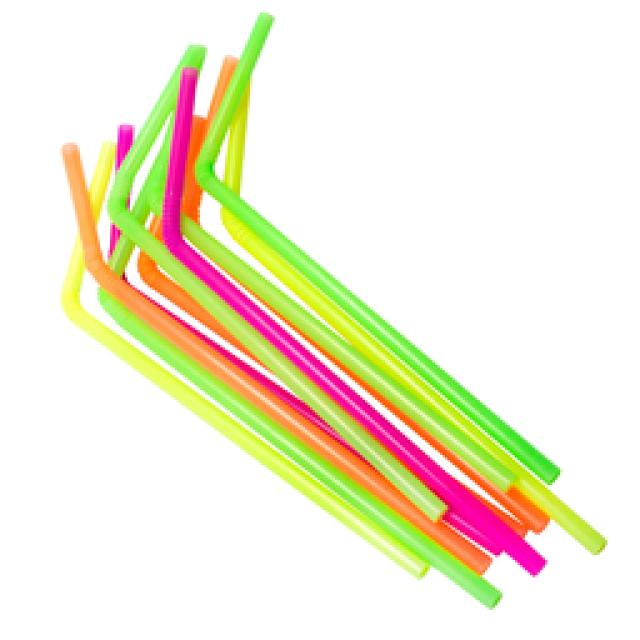plastic: (58, 10, 608, 608)
